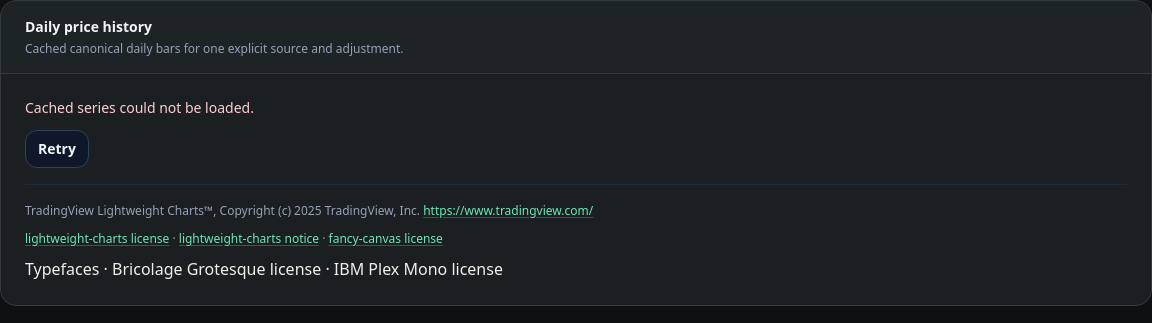
Scenario: DailyHistory › retries a failed catalog into an empty list without history or a chart
Check: the message reads "Cached series could not be loaded.", box [25,98,254,117]
Step 1. Click the button "Retry" → click(57, 149), box [25,130,89,168]
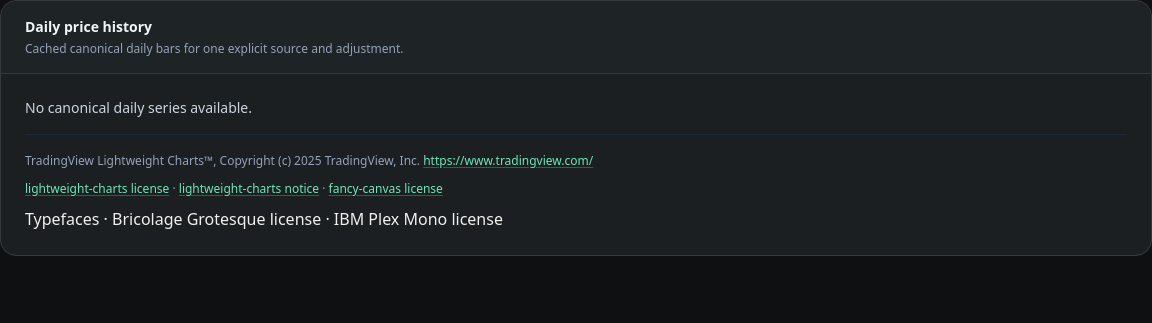
Check: the text "No canonical daily series available." is shown, box [25,98,252,117]
